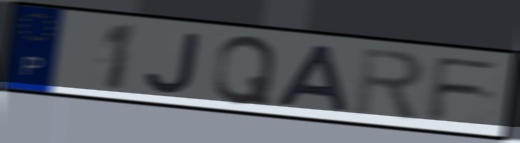1: (95, 21, 139, 92)
A: (273, 42, 354, 115)
F: (424, 54, 504, 123)
J: (142, 29, 204, 97)
Q: (210, 33, 280, 107)
R: (351, 45, 428, 122)
